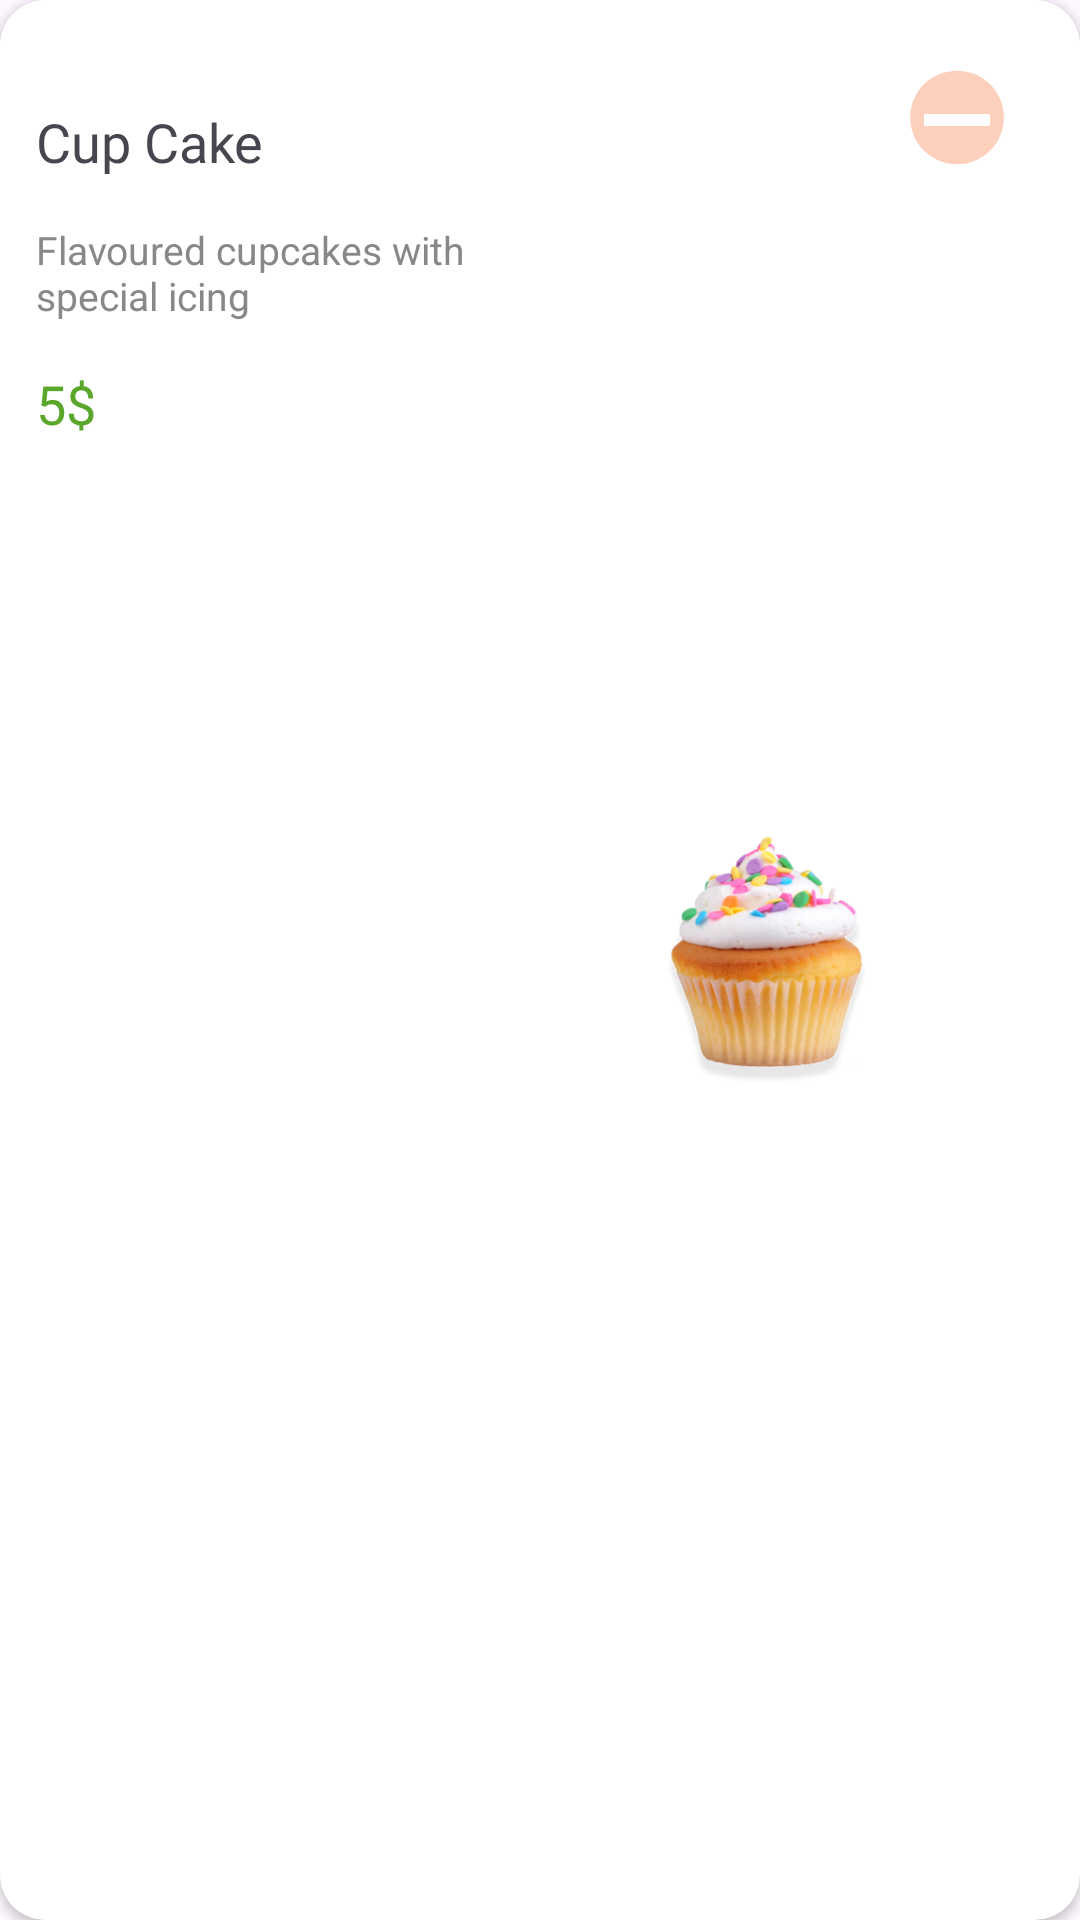

Icon click points for this 1080px x 1920px phone screenshot, format [x,y]:
cake: [766,955]
